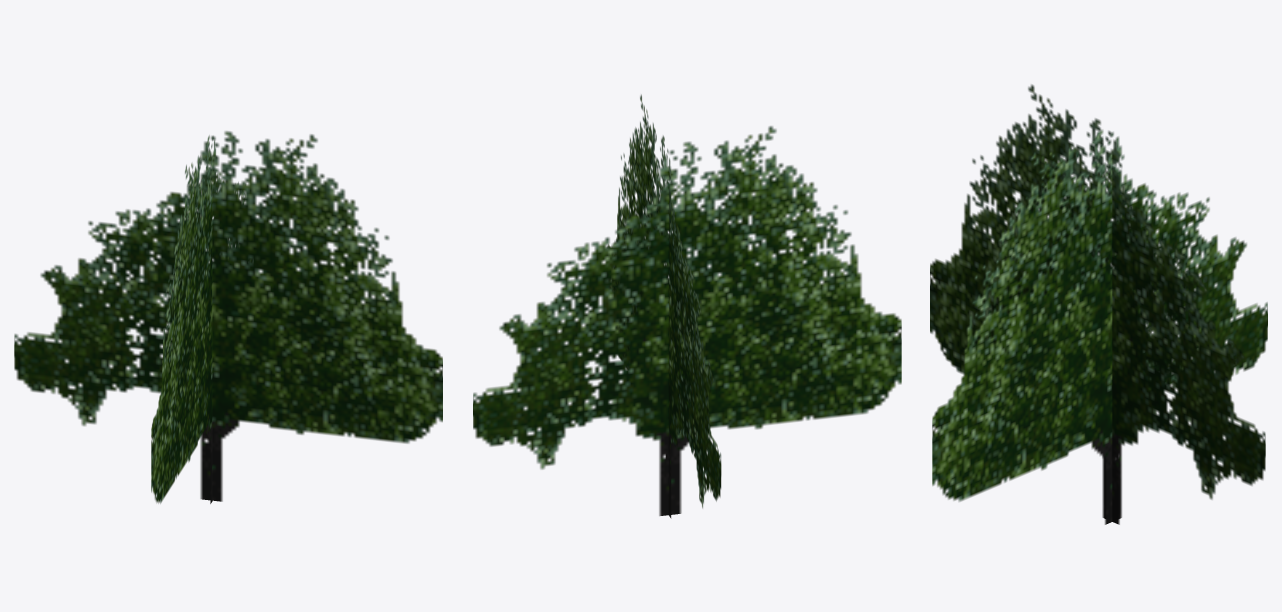
File: tree097.glb
3 renders of one model, left to right at view 1: azimuth 30°, elevation 25°; view 2: azimuth 150°, elevation 25°; view 3: azimuth 270°, elevation 25°, orthographic. The views are drawn at different scales.
Parts seen in each view (by area): view 1: tree097; view 2: tree097; view 3: tree097.
Part boxes in pixels (x1,y1,x2,y2): tree097: (14,131,442,503); tree097: (473,94,901,518); tree097: (930,84,1267,524).
Bounding box in the file's own units: 3 × 4 × 2.78.
Materials: 1 (1 with a texture image).
